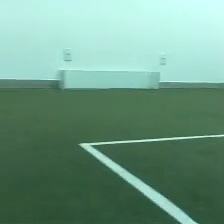goal: (57, 66, 163, 91)
